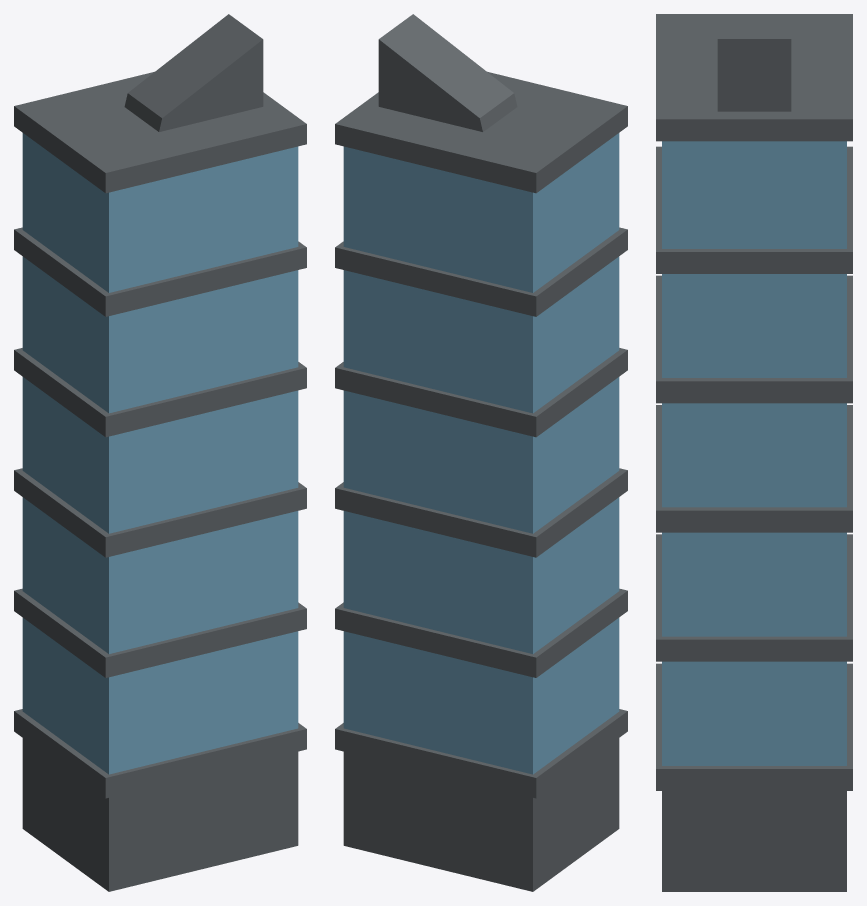
File: BackgroundBuilding_3.fbx
The picture shows the model from 3 angles, left to right: view 1: azimuth 30°, elevation 25°; view 2: azimuth 150°, elevation 25°; view 3: azimuth 270°, elevation 25°; orthographic projection. The views are drawn at different scales.
Visible parts, largest first — view 1: Building_3; view 2: Building_3; view 3: Building_3.
Boxes of the visible parts, <box> form: Building_3: <box>14,14,306,891</box>; Building_3: <box>335,14,627,891</box>; Building_3: <box>656,14,852,891</box>.
Size of the model in its own units: 270 by 1012 by 213.
